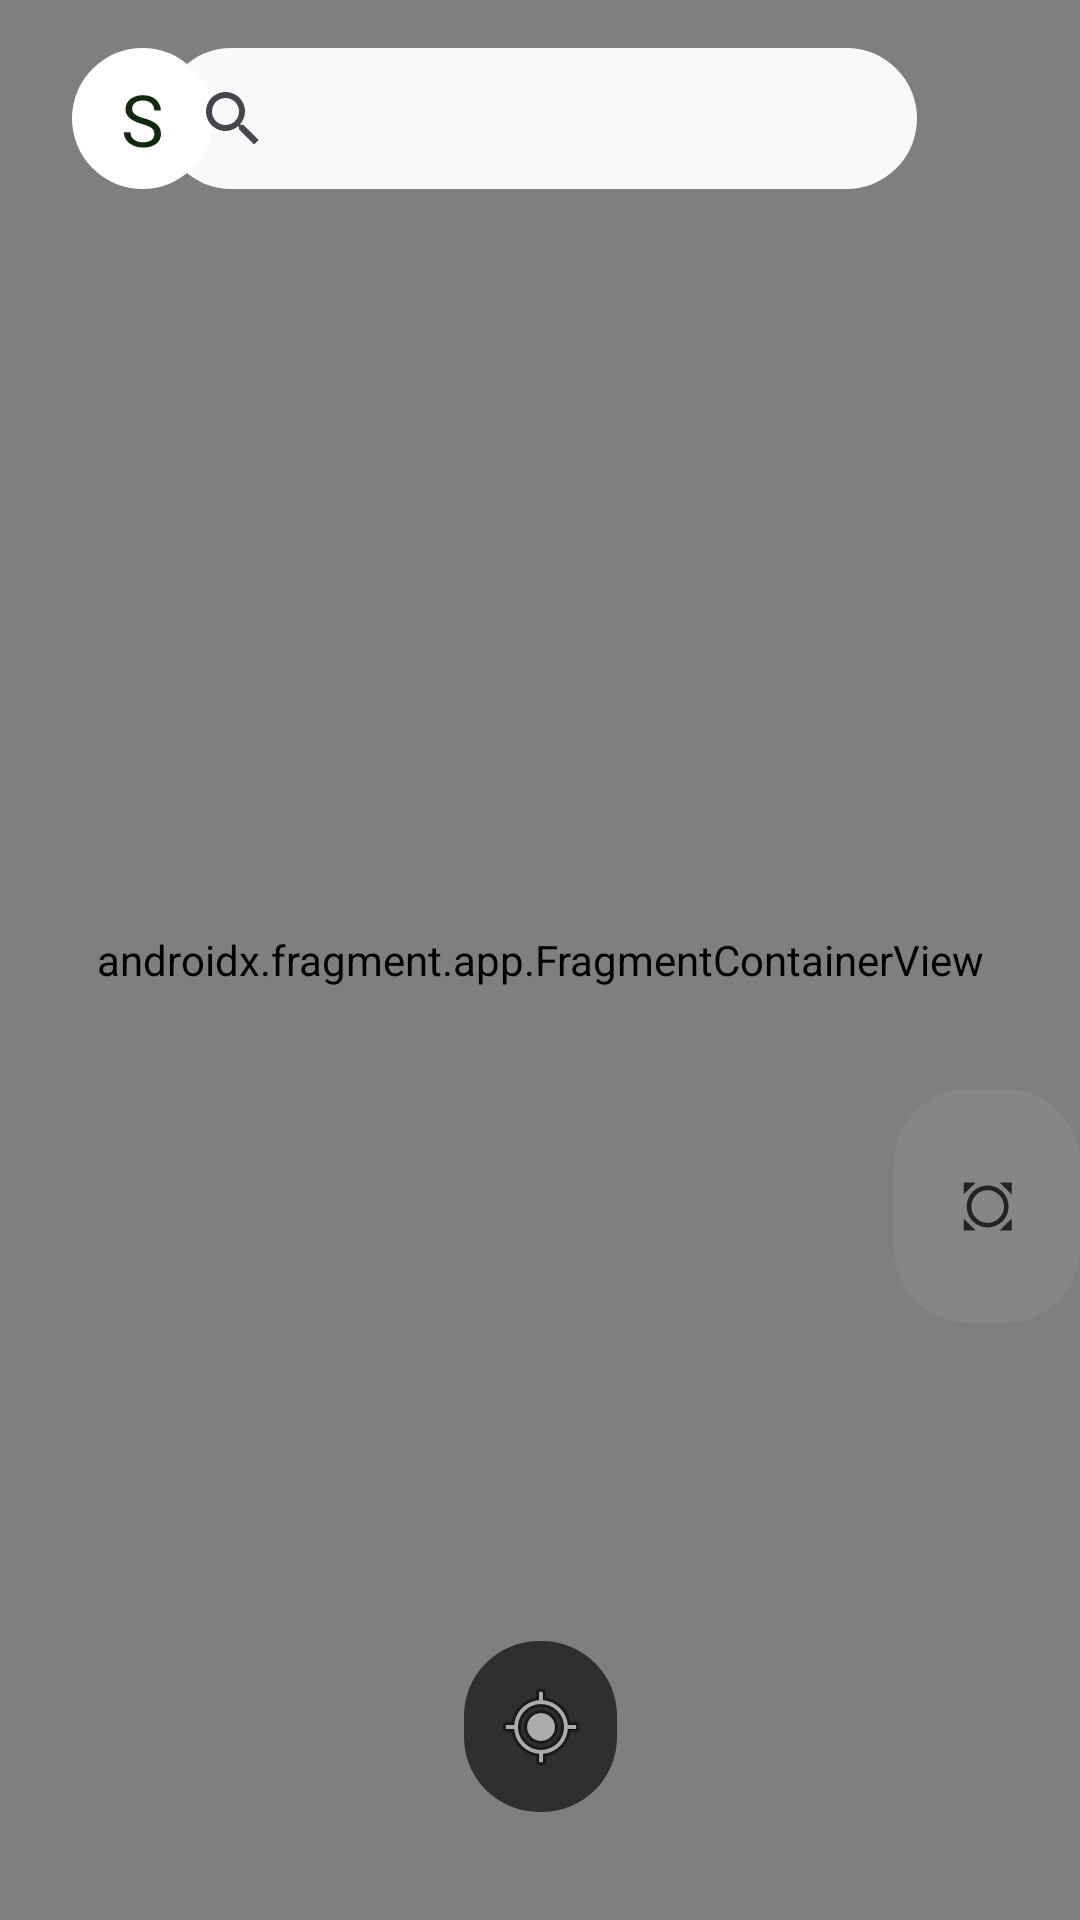

Icons on this 1080 × 1920 Android screen, each with the point to tap as (x,y):
mylocation: (540,1726)
